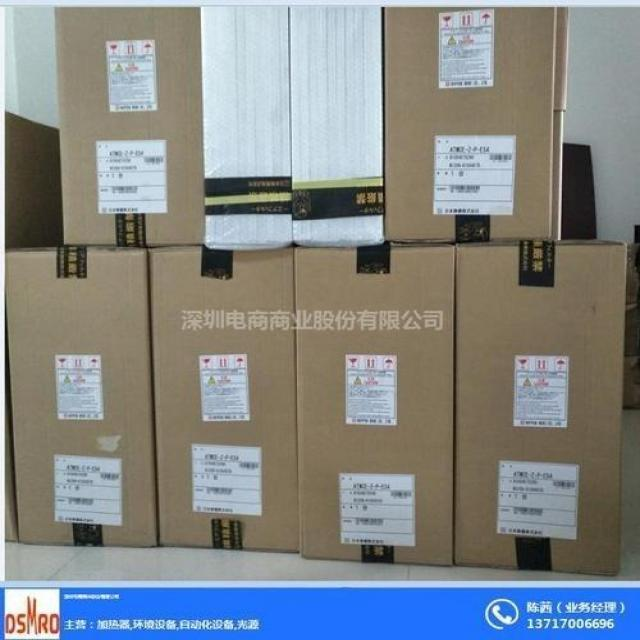box: (449, 234, 631, 581), (289, 240, 462, 568), (144, 237, 316, 555), (0, 241, 174, 555), (374, 6, 571, 245), (48, 1, 208, 247)
